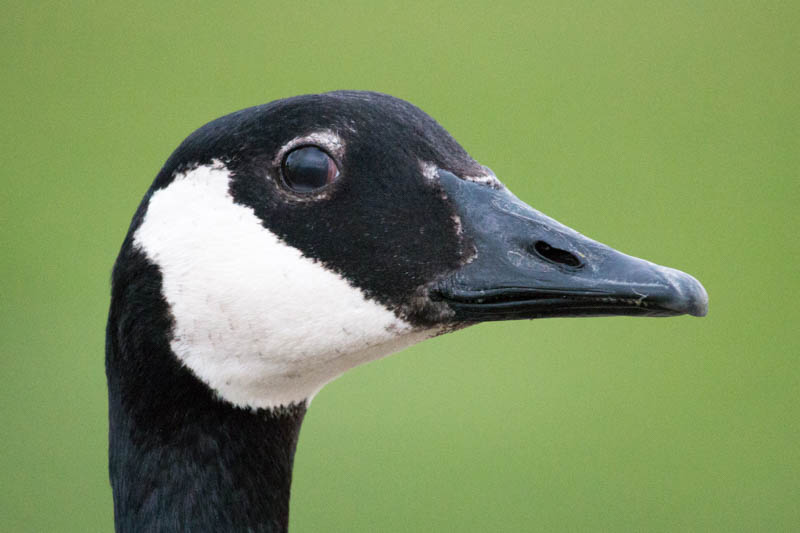goose-head: (105, 91, 711, 415)
